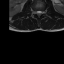CCS_normal: (37, 8, 40, 19)
LFS_normal: (41, 8, 44, 15)
LLS_normal: (40, 8, 41, 17)
RFS_normal: (34, 8, 36, 16)
RLS_normal: (36, 8, 37, 17)
